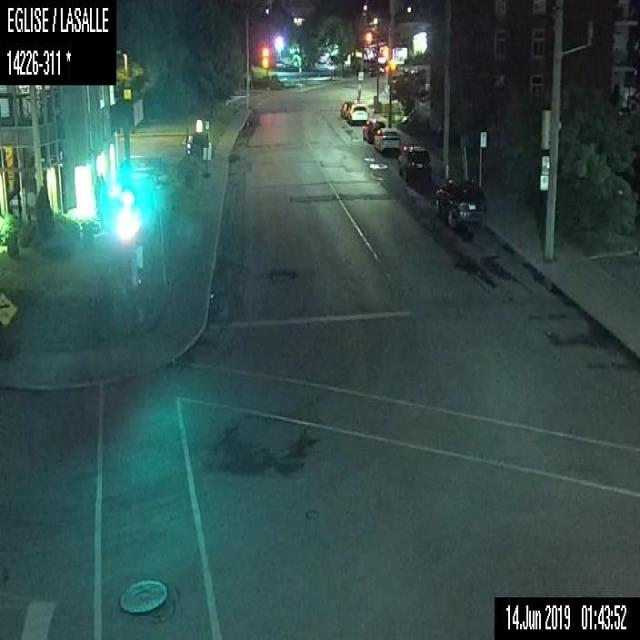vehicle: (434, 177, 486, 228), (396, 144, 428, 178), (373, 127, 402, 153), (361, 118, 386, 142), (348, 101, 368, 122), (339, 100, 352, 117)
